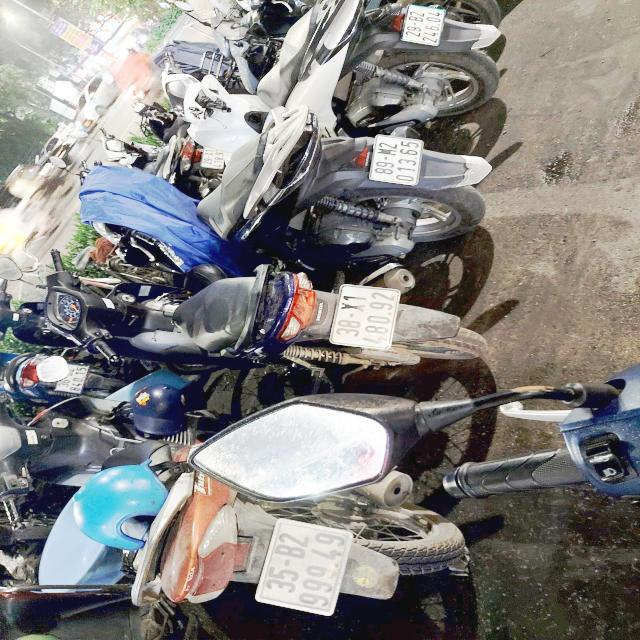license_plate: (253, 517, 357, 622), (329, 283, 401, 351), (366, 134, 427, 190)
